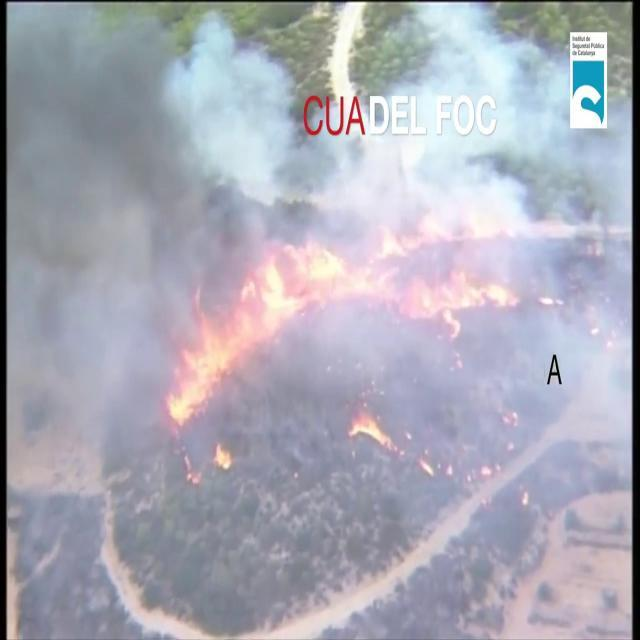Fire: (166, 248, 294, 428)
Smoke: (14, 1, 628, 283), (7, 4, 252, 618)
